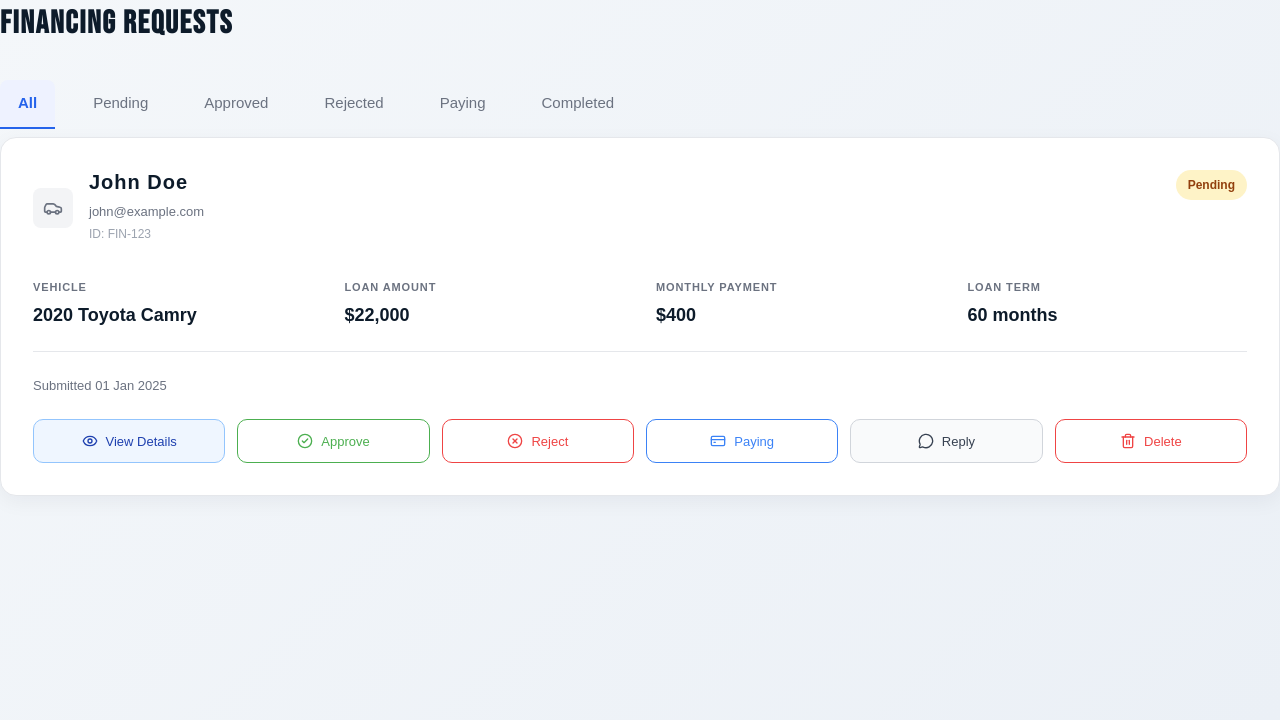
Scenario: AdminFinancing - Details modal › View Details opens the modal as an accessible dialog
This screenshot has width=1280, height=720.
Expected: the text "View Details" is shown, top-left (106, 432), bottom-right (177, 451)
Click the button "View Details" at point(129, 441), box top-left (33, 419), bottom-right (225, 463)
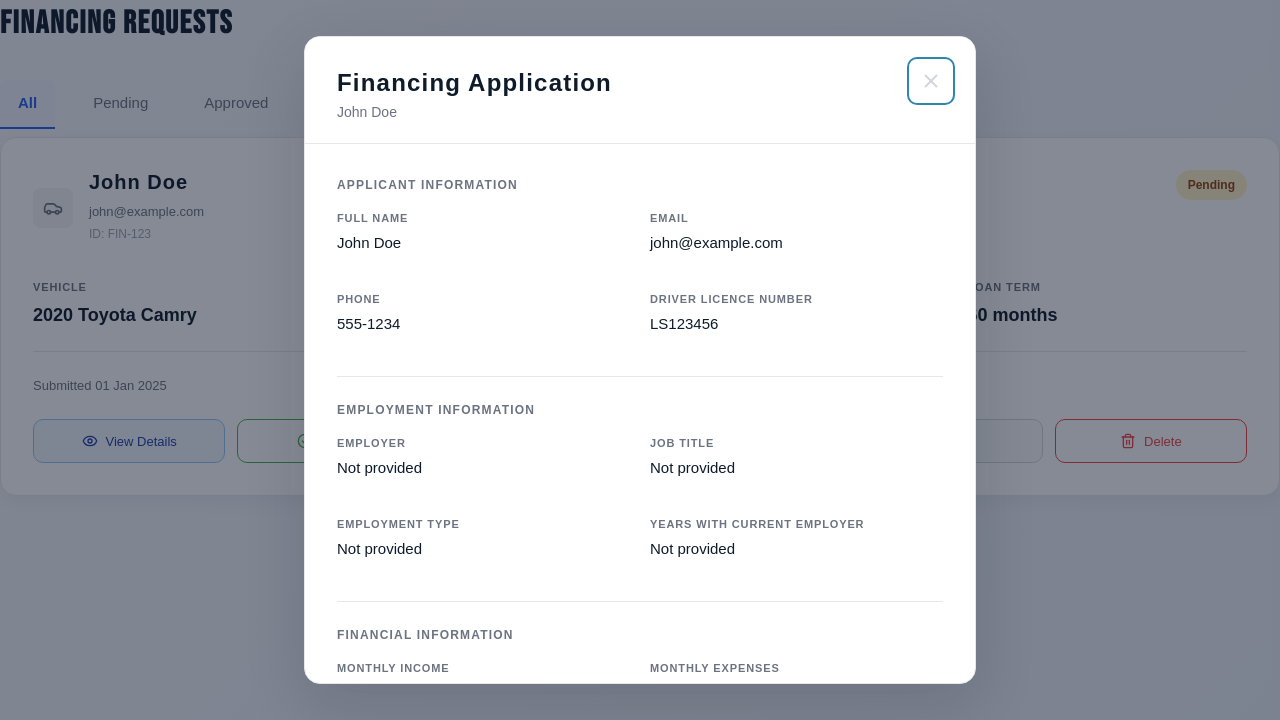
Expected: the dialog is shown, top-left (304, 36), bottom-right (976, 684)
